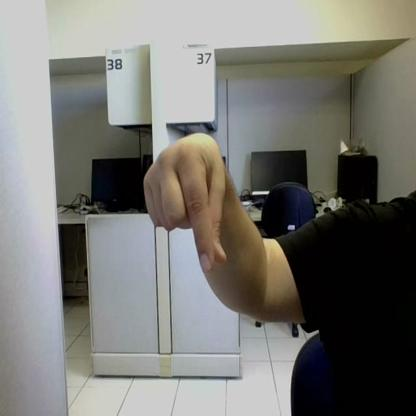Q: (144, 143, 222, 271)
